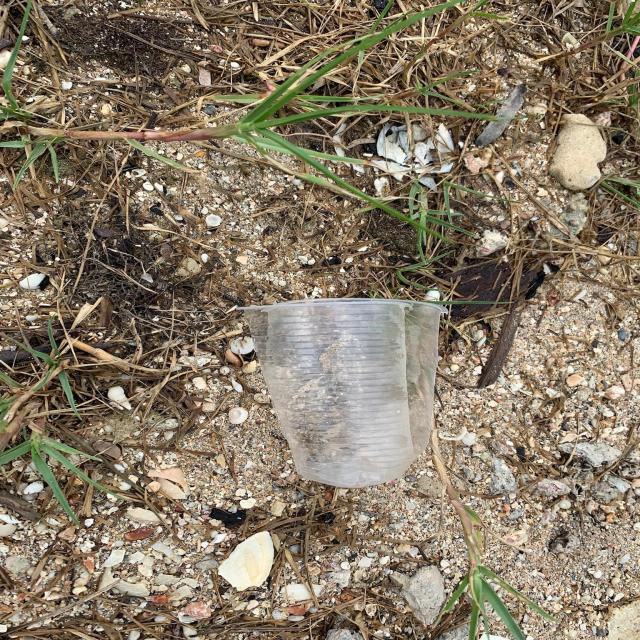litter: (237, 298, 448, 488)
